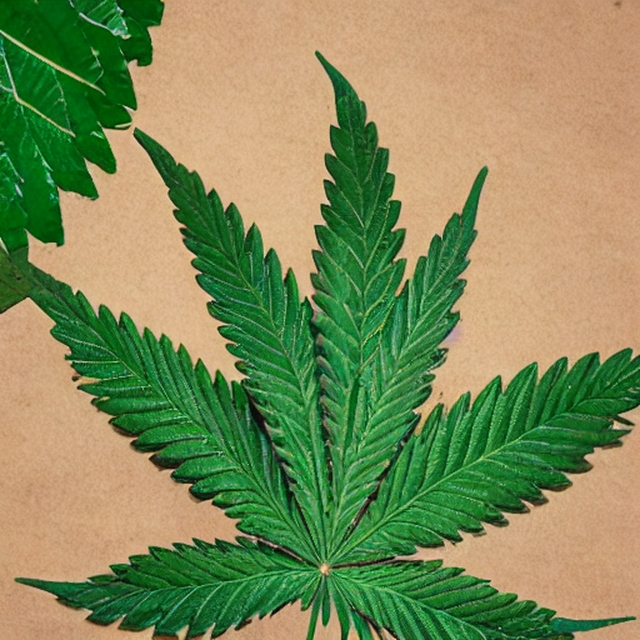Marijuana Leaf: (12, 47, 639, 639)
